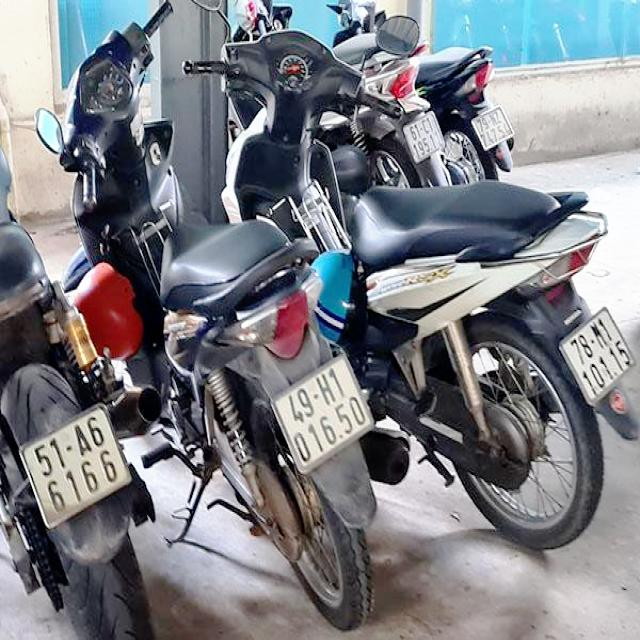license_plate: (20, 407, 130, 528), (272, 354, 375, 472), (562, 307, 638, 404), (404, 110, 447, 163), (474, 105, 515, 151)
